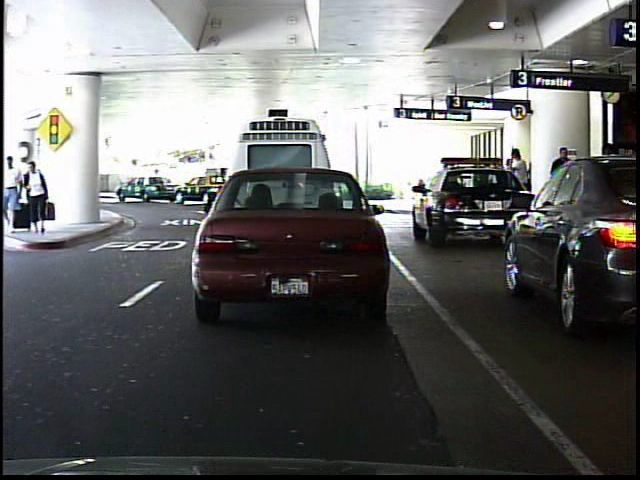person: (505, 142, 536, 231), (21, 155, 52, 236), (3, 154, 25, 233), (148, 165, 167, 199), (548, 143, 572, 165)
